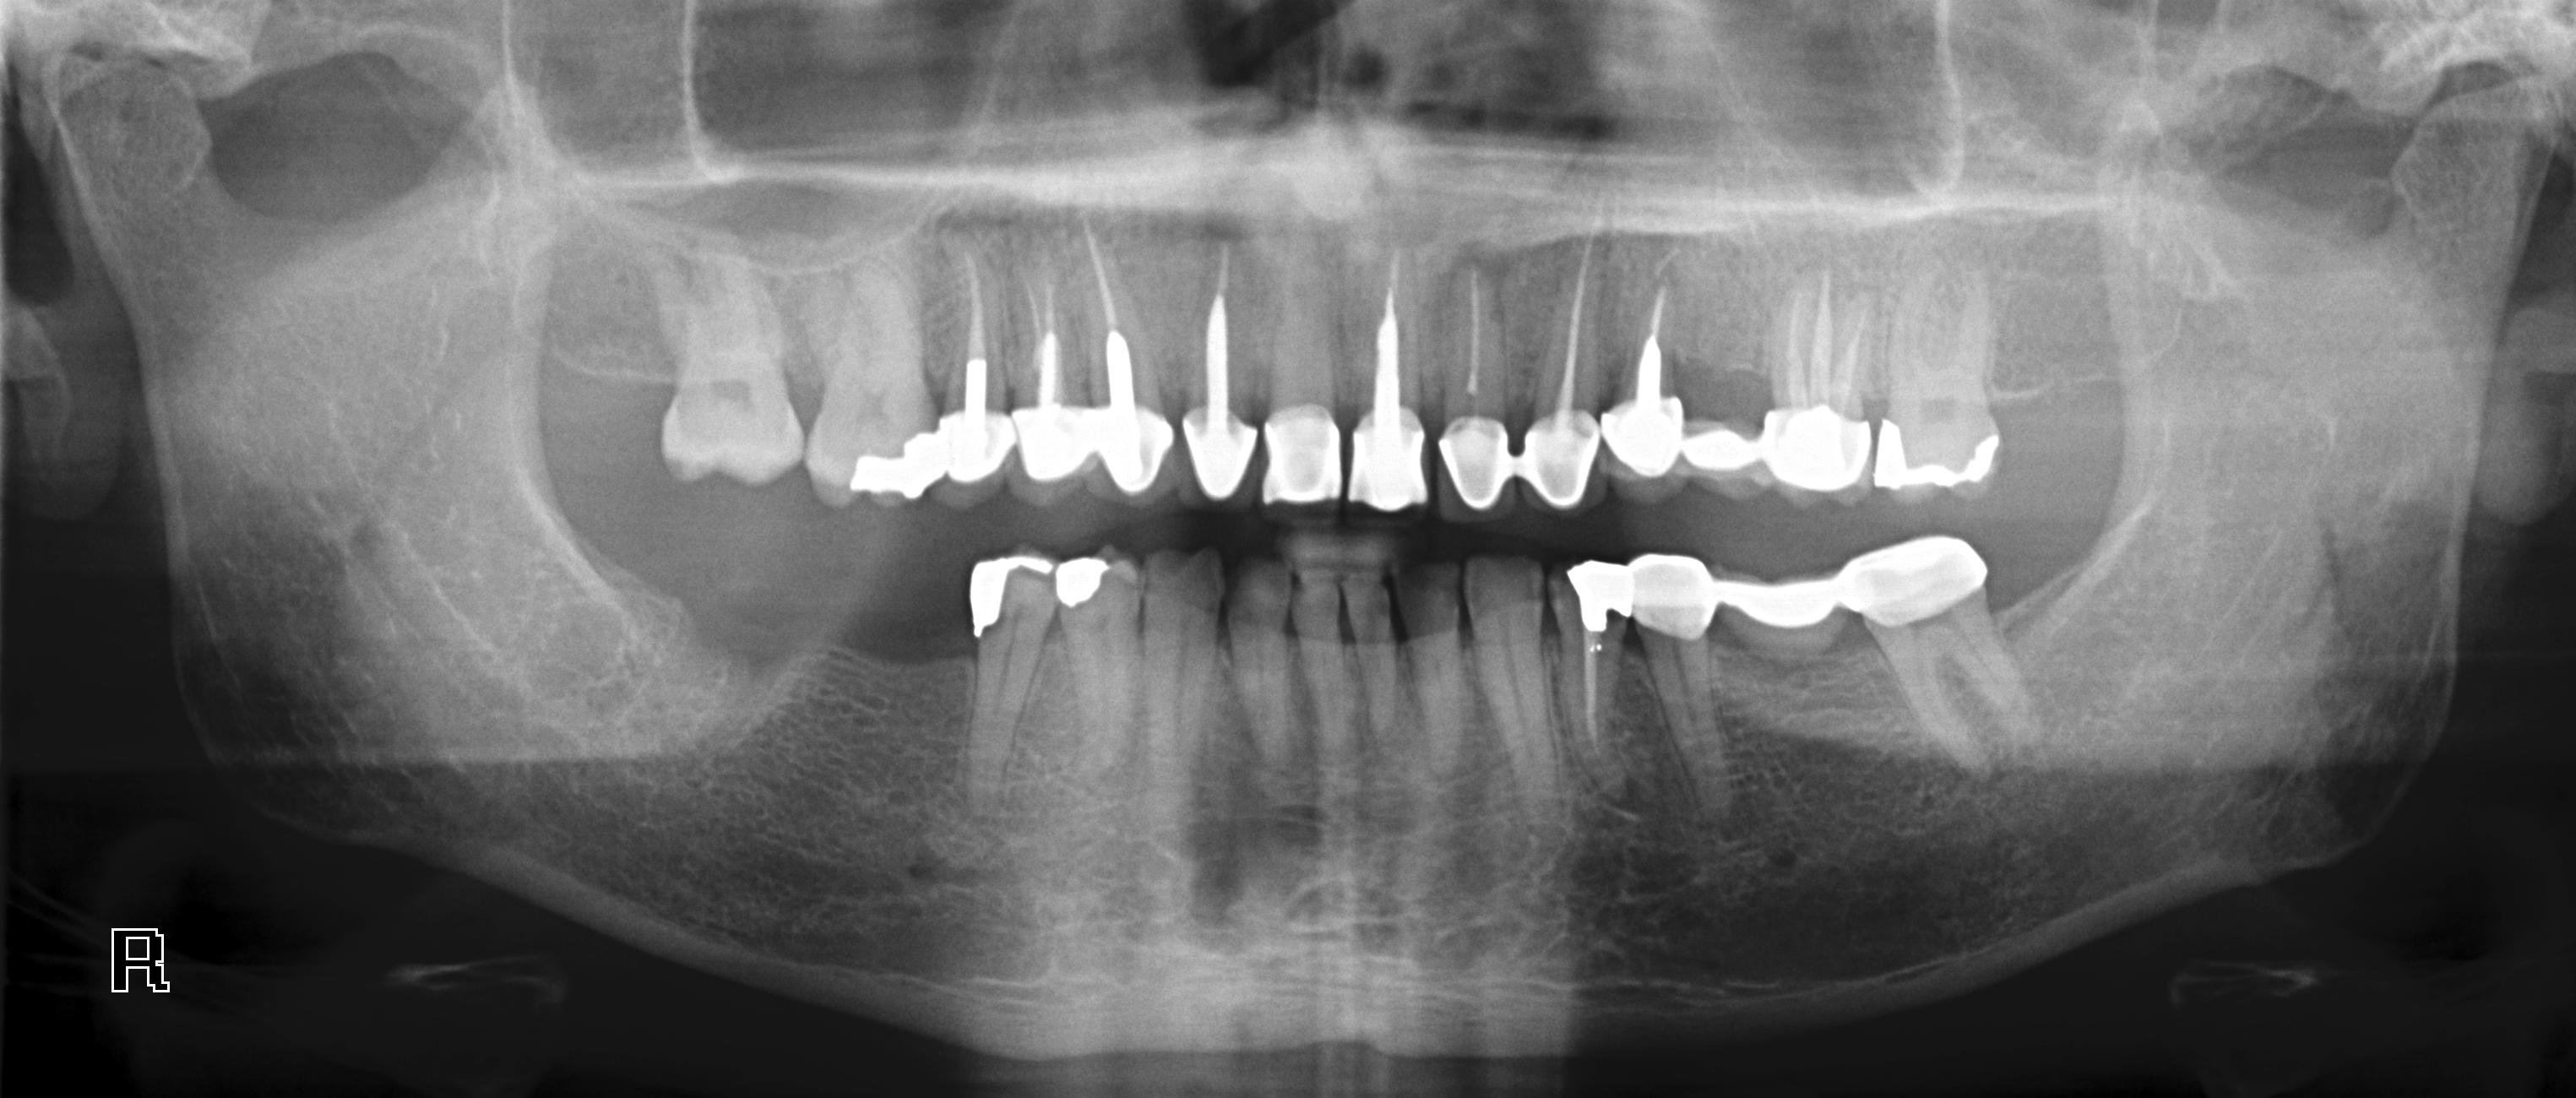Çürük: (1825, 536, 2001, 630), (1871, 411, 2024, 500), (1079, 381, 1181, 510), (1350, 396, 1441, 524), (1437, 404, 1523, 524), (940, 541, 1058, 625), (851, 409, 941, 518), (1178, 388, 1253, 514), (1528, 391, 1603, 514), (1265, 404, 1345, 513), (1630, 541, 1713, 639), (1009, 385, 1079, 501), (1764, 408, 1866, 488), (1605, 391, 1694, 472), (943, 393, 1010, 490), (1559, 546, 1630, 638), (1053, 546, 1114, 626)
Çürük Bölgesi: (1594, 600, 1636, 636), (978, 615, 1010, 643)
